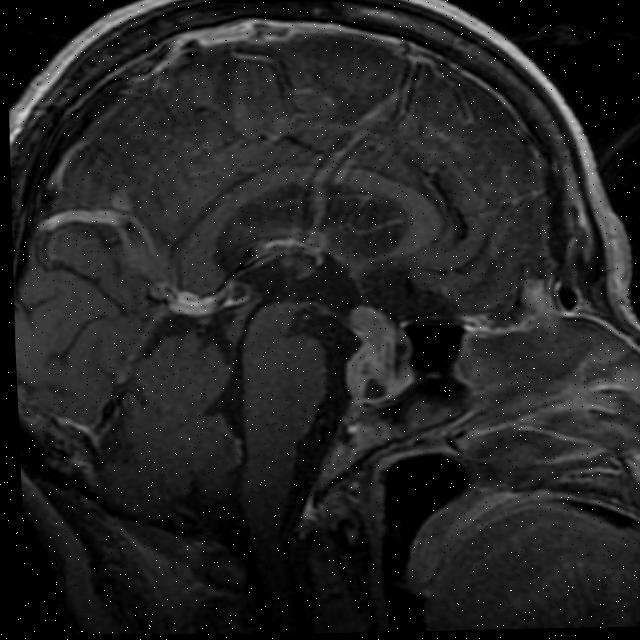Pituitary: (340, 301, 420, 406)
